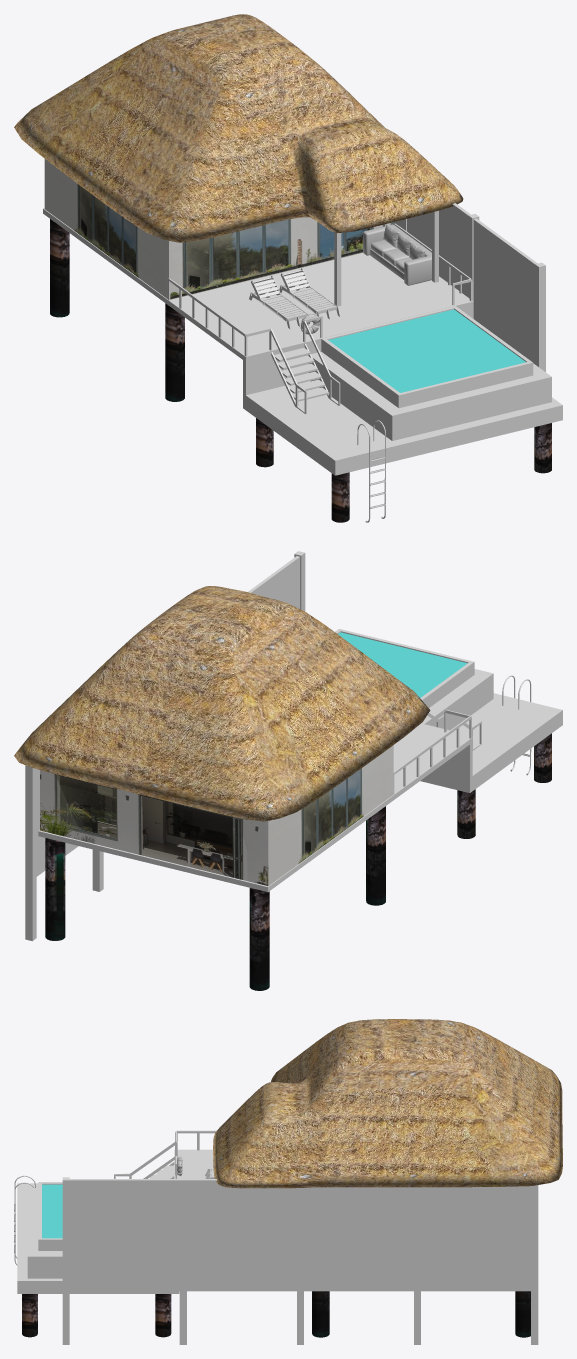
The model's file is houses.fbx.
3 views of the same model, one above another, from view 1: azimuth 30°, elevation 25°; view 2: azimuth 150°, elevation 25°; view 3: azimuth 270°, elevation 25° (orthographic). The views are drawn at different scales.
Visible parts, largest first — view 1: Cube.002, Cube.001, Cube, Cube.004, Plane, Cube.005, Cube.010, Cube.002_couch_0, Cube.009, Cube.008, Cube.007, Cube.012 (+6 smaller); view 2: Cube.002, Cube, Cube.001, Cube.008, Cube.004, Cube.005, Cube.012, Plane, Cube.009, Cube.010, Cube.006, Cube.007; view 3: Cube.002, Plane, Cube.012, Cube.001, Cube.004, Cube.005, Cube.009, Cube.010, Cube.008, Cube.006, Cube.007.
Part boxes in pixels (x1,y1,x2,y2): Cube.002: [14, 14, 463, 242]; Cube.001: [43, 208, 562, 475]; Cube: [44, 159, 395, 299]; Cube.004: [308, 306, 551, 440]; Plane: [395, 203, 537, 363]; Cube.005: [328, 309, 525, 392]; Cube.010: [168, 223, 472, 414]; Cube.002_couch_0: [363, 224, 431, 285]; Cube.009: [165, 303, 184, 401]; Cube.008: [50, 219, 69, 317]; Cube.007: [331, 423, 551, 522]; Cube.012: [401, 213, 545, 371]; Cube.002: [14, 586, 430, 821]; Cube: [40, 745, 393, 886]; Cube.001: [38, 693, 562, 891]; Cube.008: [45, 838, 269, 990]; Cube.004: [335, 629, 493, 730]; Cube.005: [338, 632, 467, 697]; Cube.012: [25, 551, 305, 941]; Plane: [36, 556, 299, 876]; Cube.009: [366, 806, 385, 905]; Cube.010: [393, 709, 481, 794]; Cube.006: [457, 789, 475, 838]; Cube.007: [534, 733, 551, 782]; Cube.002: [213, 1019, 562, 1188]; Plane: [69, 1179, 530, 1291]; Cube.012: [62, 1177, 538, 1344]; Cube.001: [17, 1149, 214, 1293]; Cube.004: [27, 1182, 62, 1278]; Cube.005: [42, 1184, 62, 1238]; Cube.009: [312, 1291, 329, 1337]; Cube.010: [114, 1130, 216, 1178]; Cube.008: [515, 1291, 530, 1337]; Cube.006: [155, 1294, 171, 1337]; Cube.007: [22, 1294, 37, 1337].
Size of the model in its own units: 1124 by 1172 by 2198.
